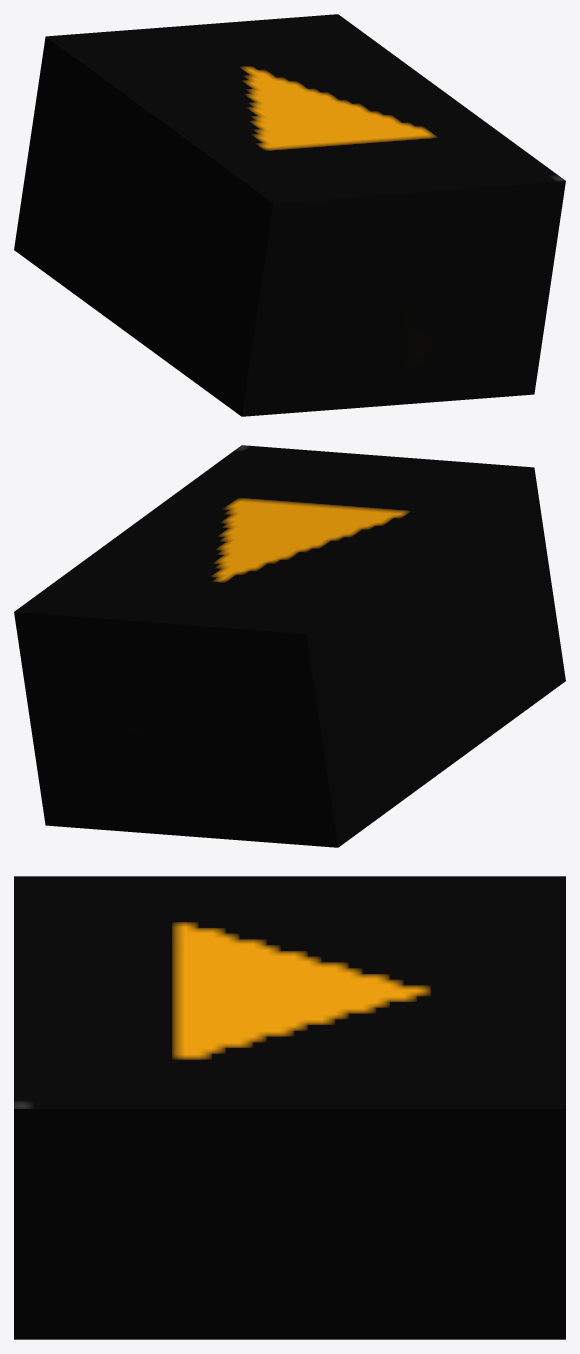
Rendered from salt-button-play.glb.
3 views of the same model, one above another, from view 1: azimuth 30°, elevation 25°; view 2: azimuth 150°, elevation 25°; view 3: azimuth 270°, elevation 25° (orthographic). The views are drawn at different scales.
Parts seen in each view (by area): view 1: ButtonSaltPlay; view 2: ButtonSaltPlay; view 3: ButtonSaltPlay.
Part boxes in pixels (bbox=[...]): ButtonSaltPlay: bbox=[14, 14, 565, 416]; ButtonSaltPlay: bbox=[14, 445, 565, 847]; ButtonSaltPlay: bbox=[14, 876, 565, 1339].
Size of what is drawn, in the model's own units: 0.1845 by 0.1387 by 0.2246.
Materials: 1 (1 with a texture image).
